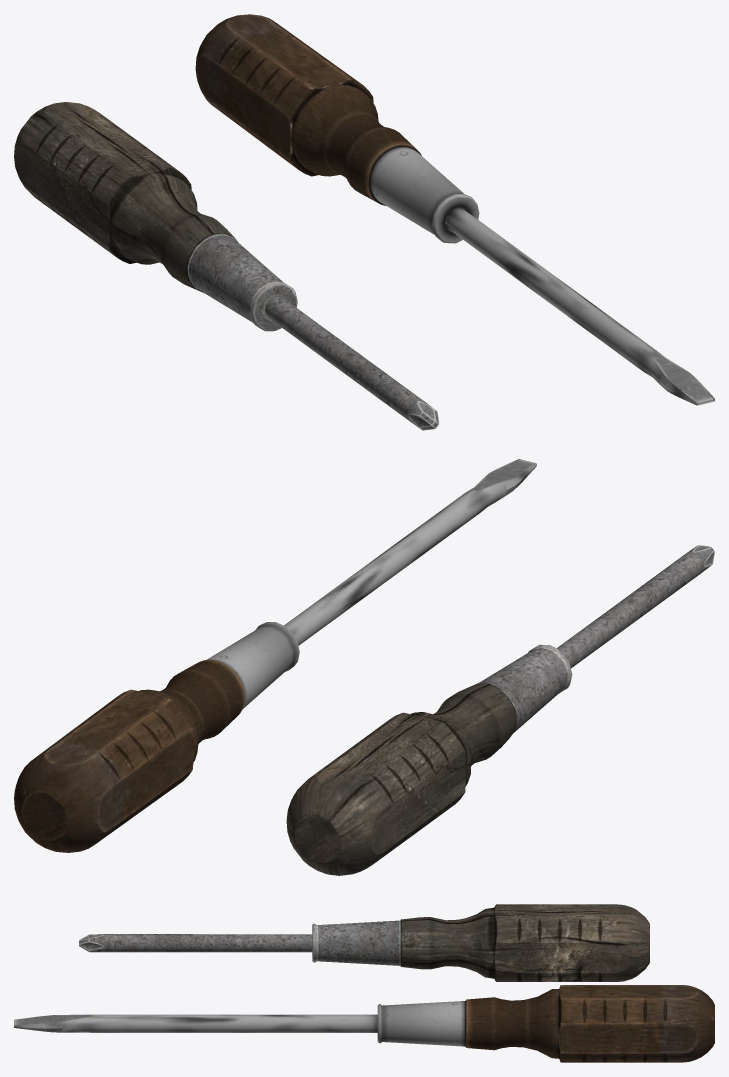
Rendered from screwdrivers_02.glb.
3 renders of one model, top to bottom at view 1: azimuth 30°, elevation 25°; view 2: azimuth 150°, elevation 25°; view 3: azimuth 270°, elevation 25°, orthographic. The views are drawn at different scales.
Parts seen in each view (by area): view 1: screwdrivers_02_a; view 2: screwdrivers_02_a; view 3: screwdrivers_02_a.
Part boxes in pixels (left/top/right/bottom): screwdrivers_02_a: left=14, top=14, right=714, bottom=430; screwdrivers_02_a: left=14, top=459, right=714, bottom=875; screwdrivers_02_a: left=14, top=904, right=714, bottom=1062.
Bounding box in the file's own units: 0.1004 × 0.0271 × 0.2699.
Materials: 1 (1 with a texture image).
